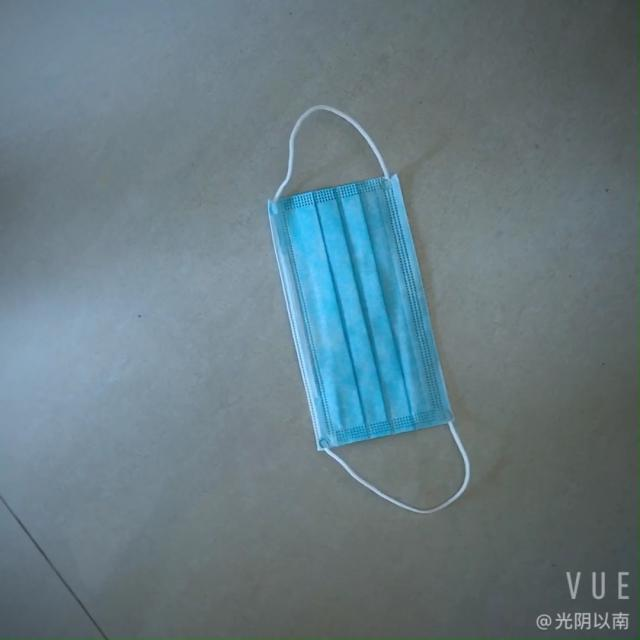face mask: (276, 155, 442, 455)
